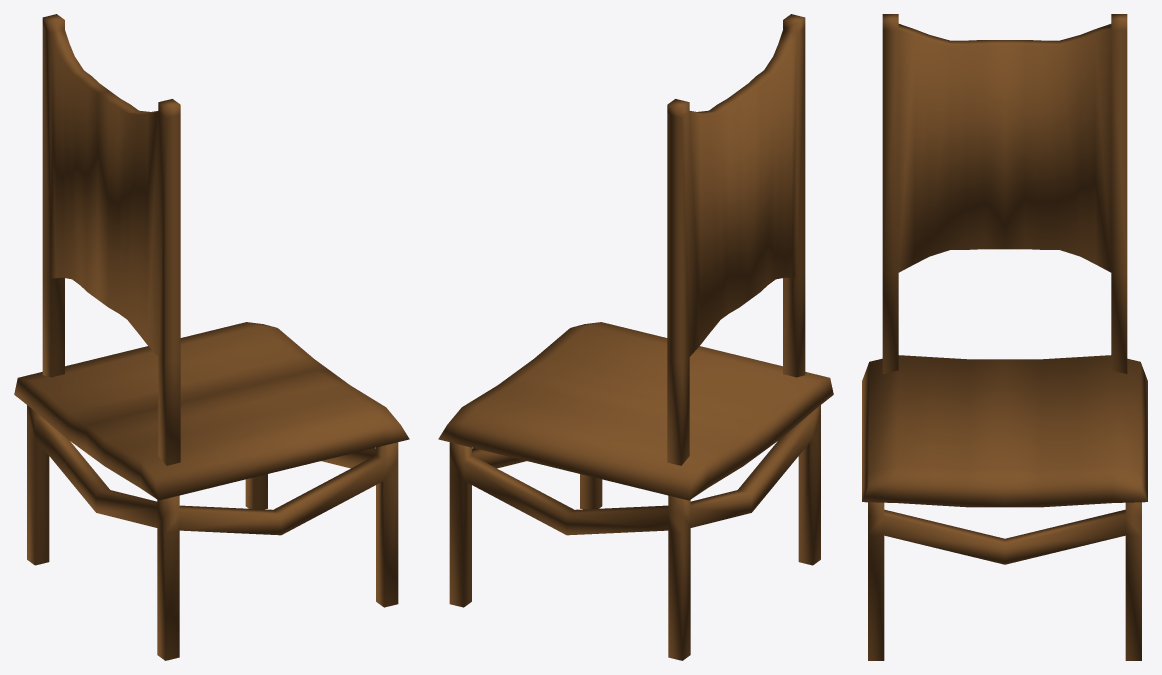
The model's file is Chair.fbx.
3 views of the same model, side by side, from view 1: azimuth 30°, elevation 25°; view 2: azimuth 150°, elevation 25°; view 3: azimuth 270°, elevation 25° (orthographic).
Parts seen in each view (by area): view 1: Cube; view 2: Cube; view 3: Cube.
Boxes of the visible parts, x1=… form: Cube: x1=14, y1=14, x2=409, y2=660; Cube: x1=438, y1=14, x2=833, y2=660; Cube: x1=862, y1=14, x2=1147, y2=660.
Bounding box in the file's own units: 255 × 530 × 255.
